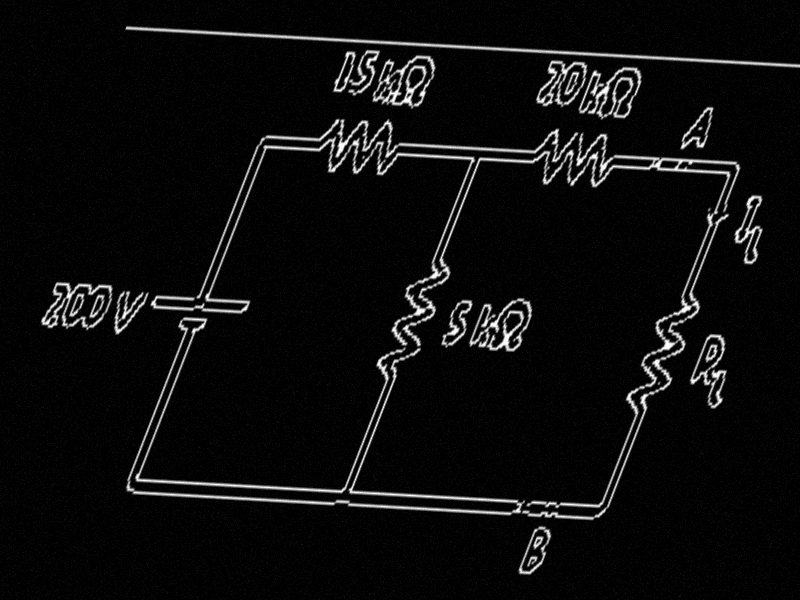0: (55, 277, 98, 329), (550, 59, 594, 109), (77, 282, 119, 331)
1: (327, 48, 362, 97)
2: (531, 59, 571, 108), (36, 279, 75, 329)
5: (437, 297, 478, 350), (345, 48, 385, 96)
A: (676, 104, 722, 153)
V: (102, 288, 153, 336)
k: (463, 301, 506, 353), (574, 68, 614, 119), (367, 57, 407, 106)
